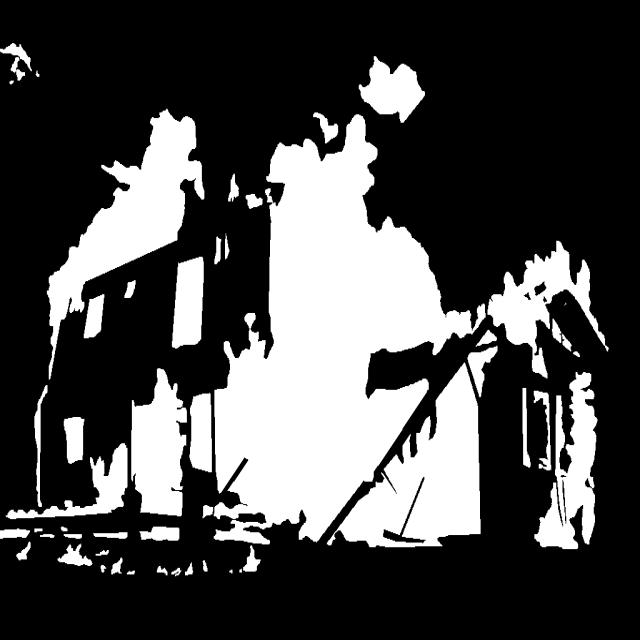fire: (7, 122, 634, 622)
